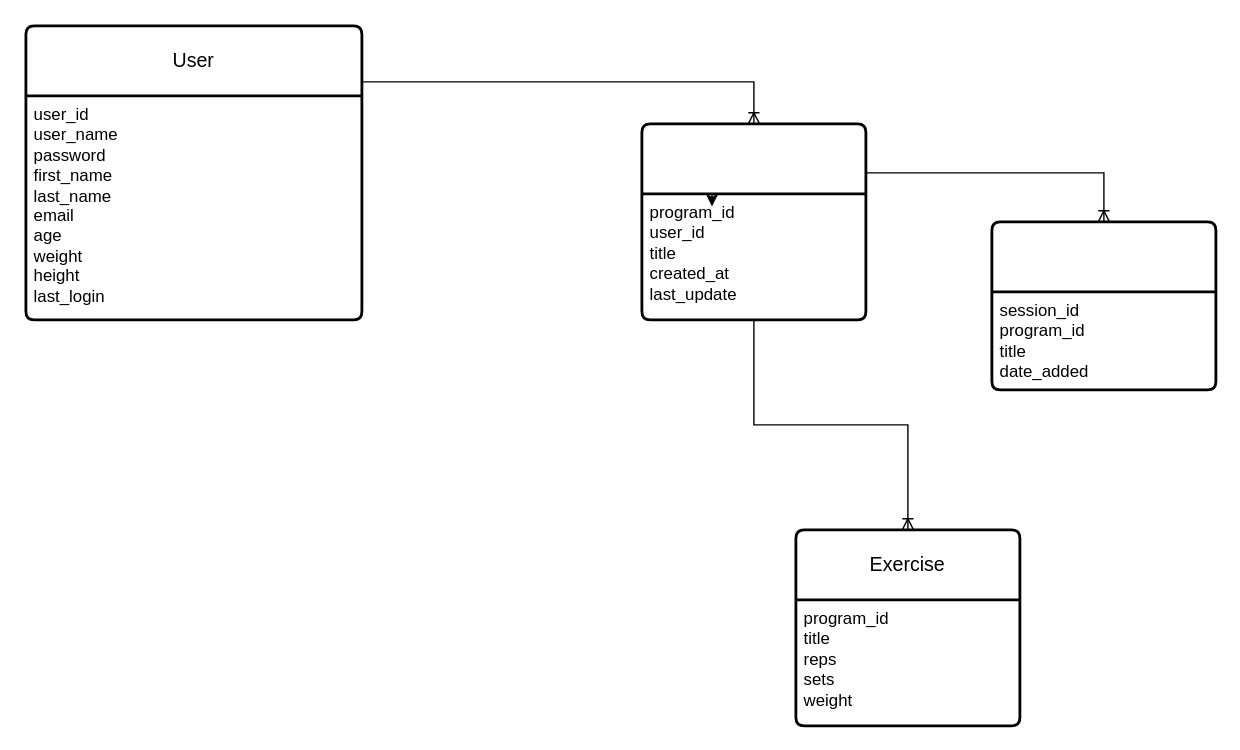
Image size: 1240x750. Some labels were removed from this diagram. Here are the shapes that lost their labels. From the top down, the box of each, then its label:
(640, 122, 867, 321): Training Program
(990, 220, 1217, 391): Training Session
